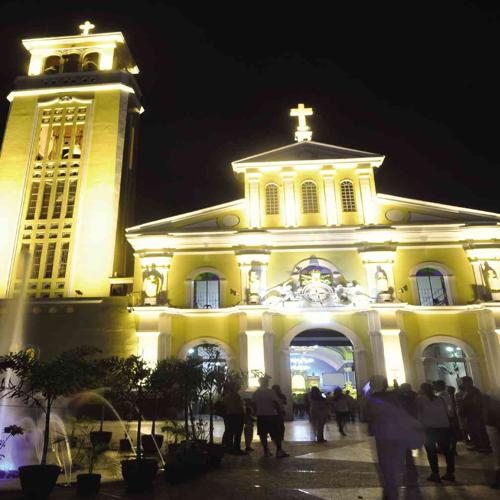Manaoag Church: (5, 22, 500, 416)
